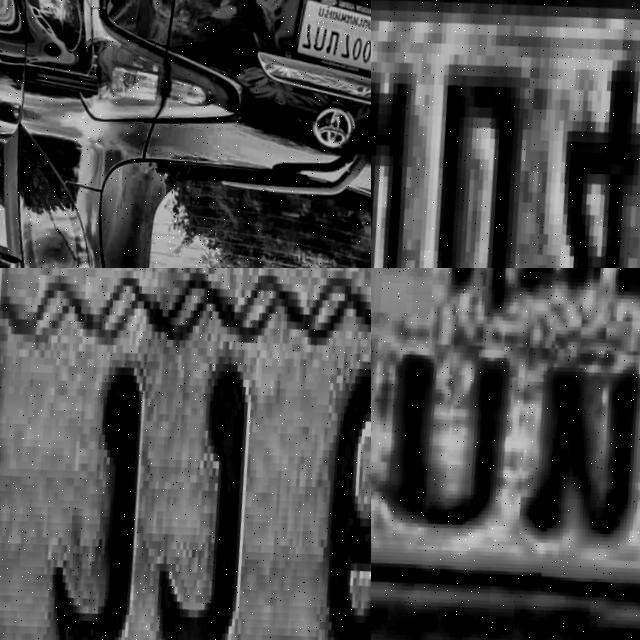license-plate: (0, 268, 371, 640), (371, 268, 640, 640), (371, 0, 640, 268), (287, 0, 371, 74)
